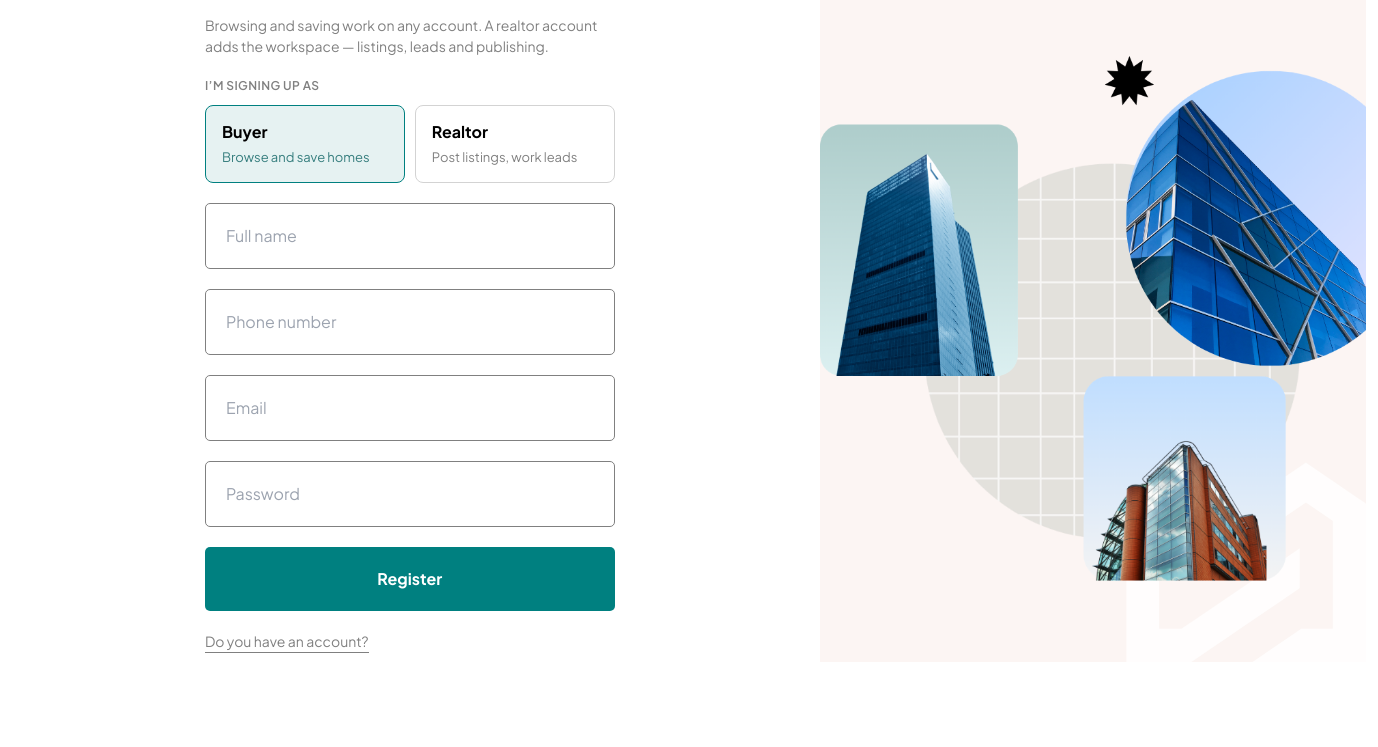
Test: Register — account type › asks an agency for nothing extra until Agency is picked
Expected: the text "Realtor type" is not shown
Click the button "Realtor Post listings, work leads" at [515, 144], box [415,105,615,182]
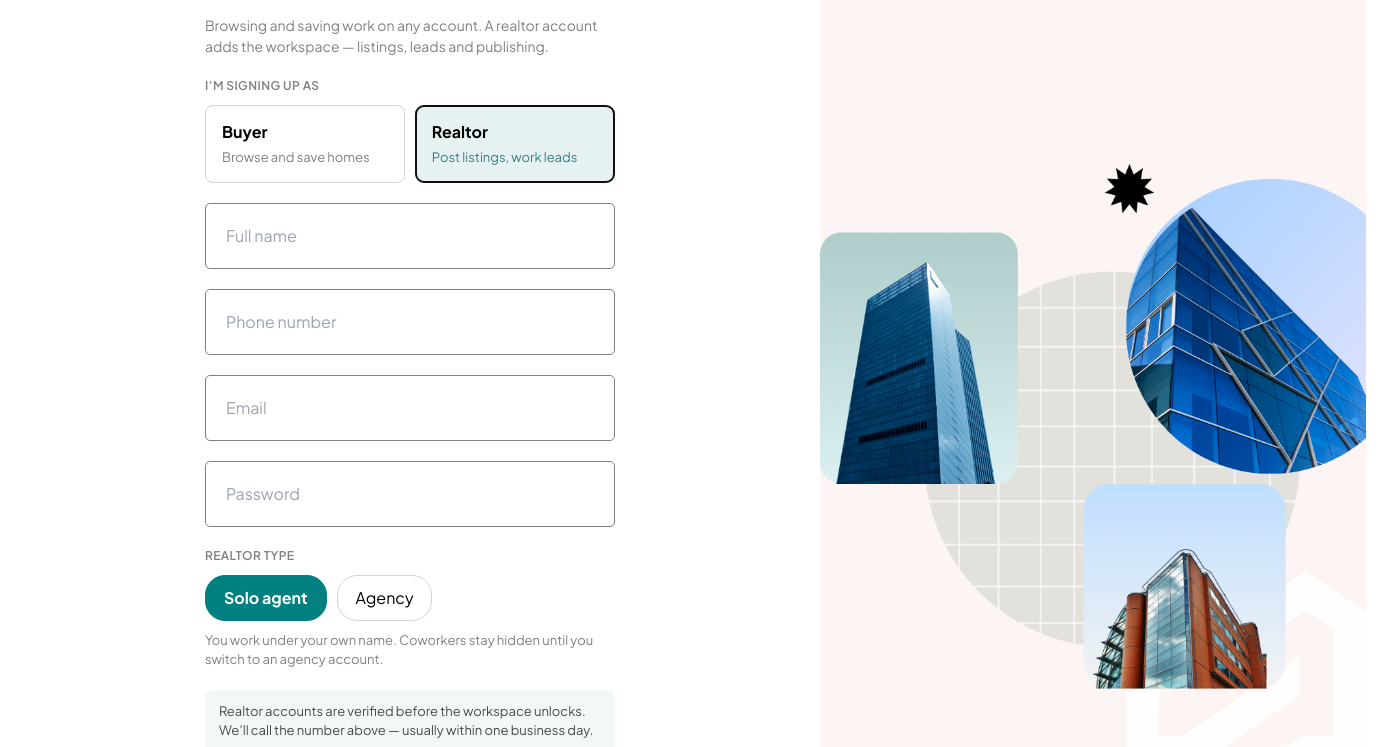
Expected: the field with placeholder "Agency name" is not shown
Expected: the text "Realtor type" is shown, [205,546,294,564]
Click the button "Agency" at [385, 598], box [337,574,432,620]
(page scrolled)
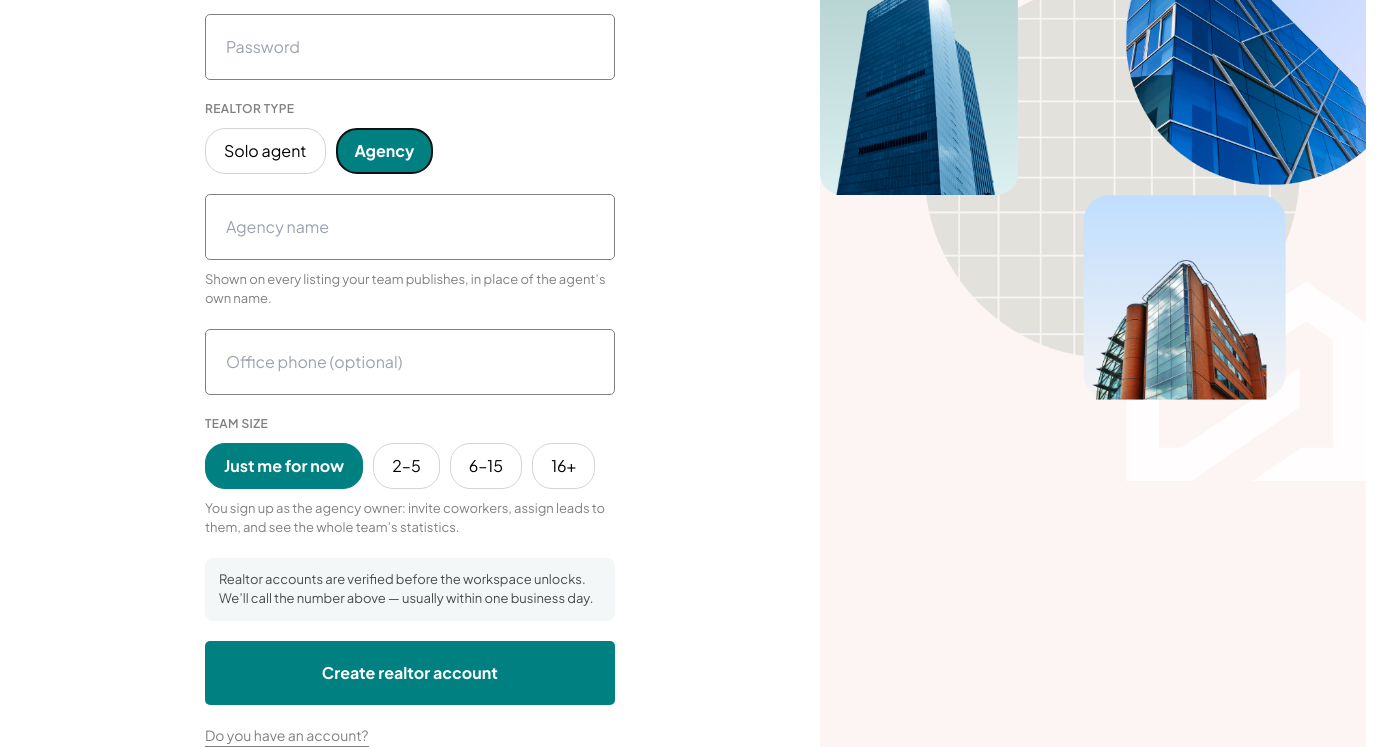
Expected: the field with placeholder "Agency name" is shown, [205,194,615,260]
Expected: the text "Team size" is shown, [205,414,268,432]
